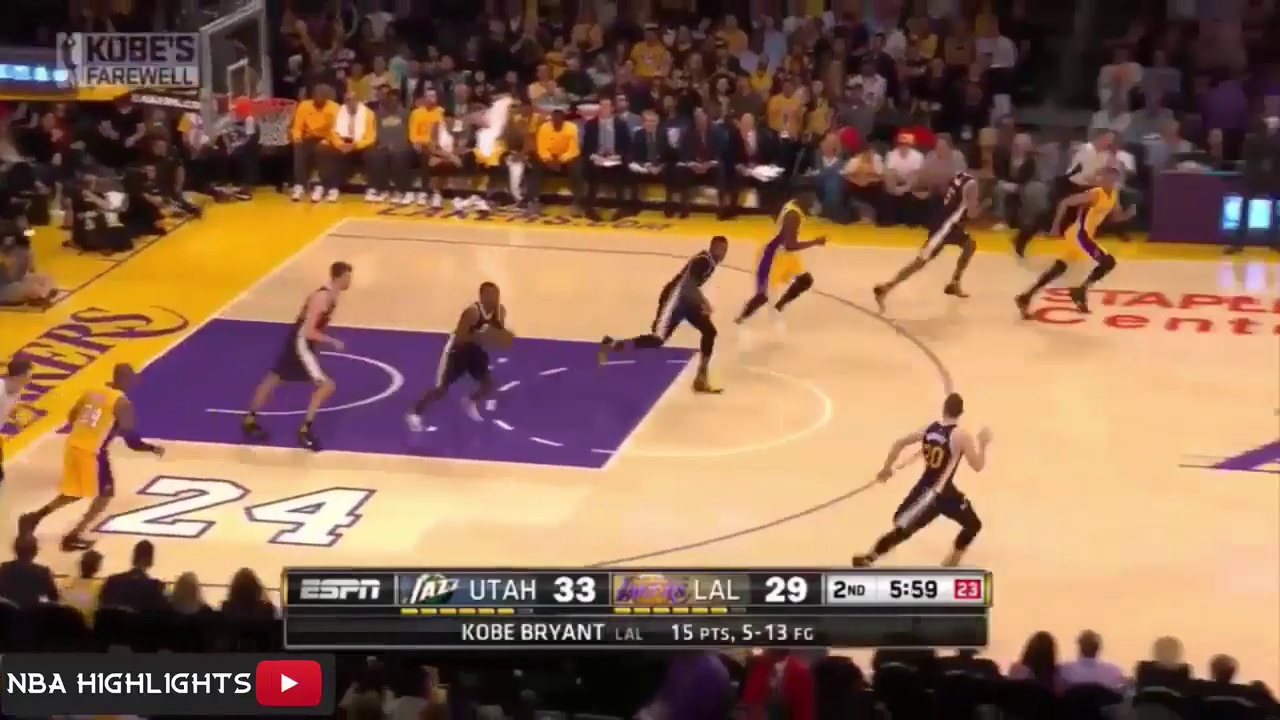jazz: (853, 395, 1018, 570), (599, 231, 747, 394), (249, 260, 359, 449), (872, 158, 999, 318), (408, 281, 516, 436)
lakers: (23, 360, 181, 550), (1014, 174, 1144, 325), (733, 190, 830, 345)
